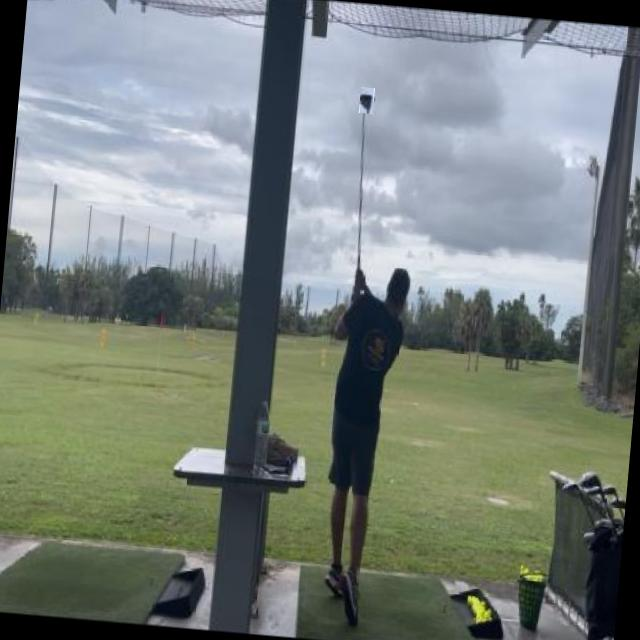club head: (359, 86, 375, 114)
